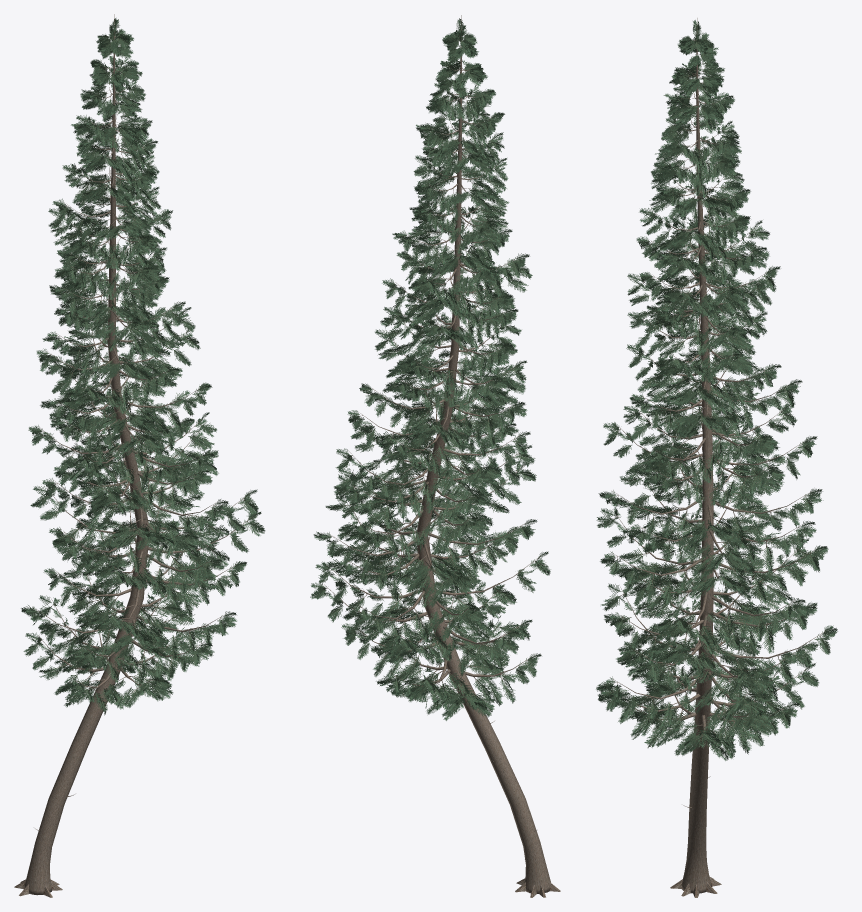
Rendered from SS_Defect_Bent_Mature_02_LOD0.fbx.
3 renders of one model, left to right at view 1: azimuth 30°, elevation 25°; view 2: azimuth 150°, elevation 25°; view 3: azimuth 270°, elevation 25°, orthographic. The views are drawn at different scales.
Visible parts, largest first — view 1: SS_Defect_Bent_Mature_02_LOD0_Foliage, SS_Defect_Bent_Mature_02_LOD0_Trunk, SS_Defect_Bent_Mature_02_LOD0_Branches; view 2: SS_Defect_Bent_Mature_02_LOD0_Foliage, SS_Defect_Bent_Mature_02_LOD0_Branches, SS_Defect_Bent_Mature_02_LOD0_Trunk; view 3: SS_Defect_Bent_Mature_02_LOD0_Foliage, SS_Defect_Bent_Mature_02_LOD0_Branches, SS_Defect_Bent_Mature_02_LOD0_Trunk.
Boxes of the visible parts, x1,y1,x2,y2 form: SS_Defect_Bent_Mature_02_LOD0_Foliage: (21, 18, 265, 715); SS_Defect_Bent_Mature_02_LOD0_Trunk: (14, 14, 149, 897); SS_Defect_Bent_Mature_02_LOD0_Branches: (33, 36, 252, 830); SS_Defect_Bent_Mature_02_LOD0_Foliage: (310, 18, 550, 720); SS_Defect_Bent_Mature_02_LOD0_Branches: (322, 36, 538, 831); SS_Defect_Bent_Mature_02_LOD0_Trunk: (416, 15, 560, 897); SS_Defect_Bent_Mature_02_LOD0_Foliage: (596, 20, 837, 760); SS_Defect_Bent_Mature_02_LOD0_Branches: (610, 39, 826, 807); SS_Defect_Bent_Mature_02_LOD0_Trunk: (670, 18, 721, 897).
Size of the model in its own units: 776 by 2600 by 669.
